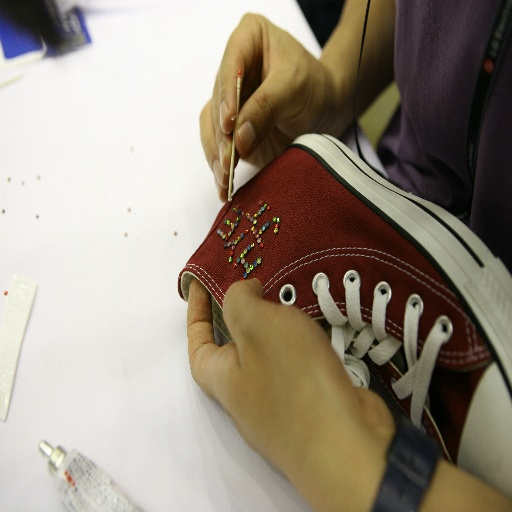hand: (185, 277, 397, 511), (198, 11, 327, 198)
